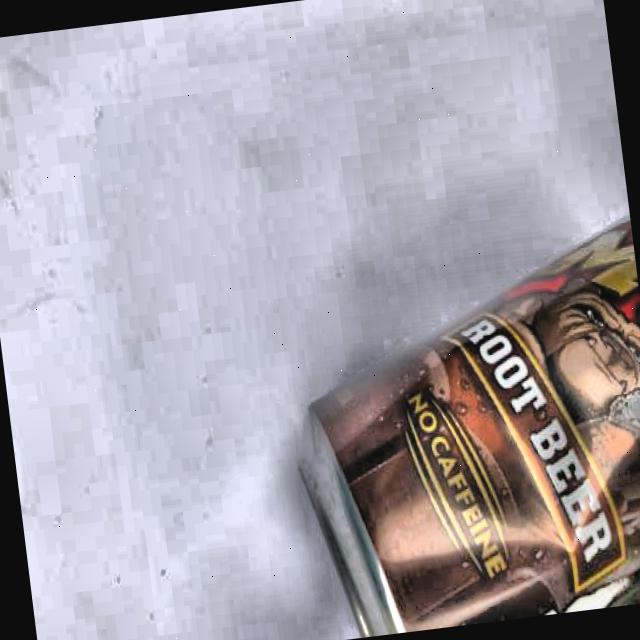metal: (271, 223, 640, 640)
